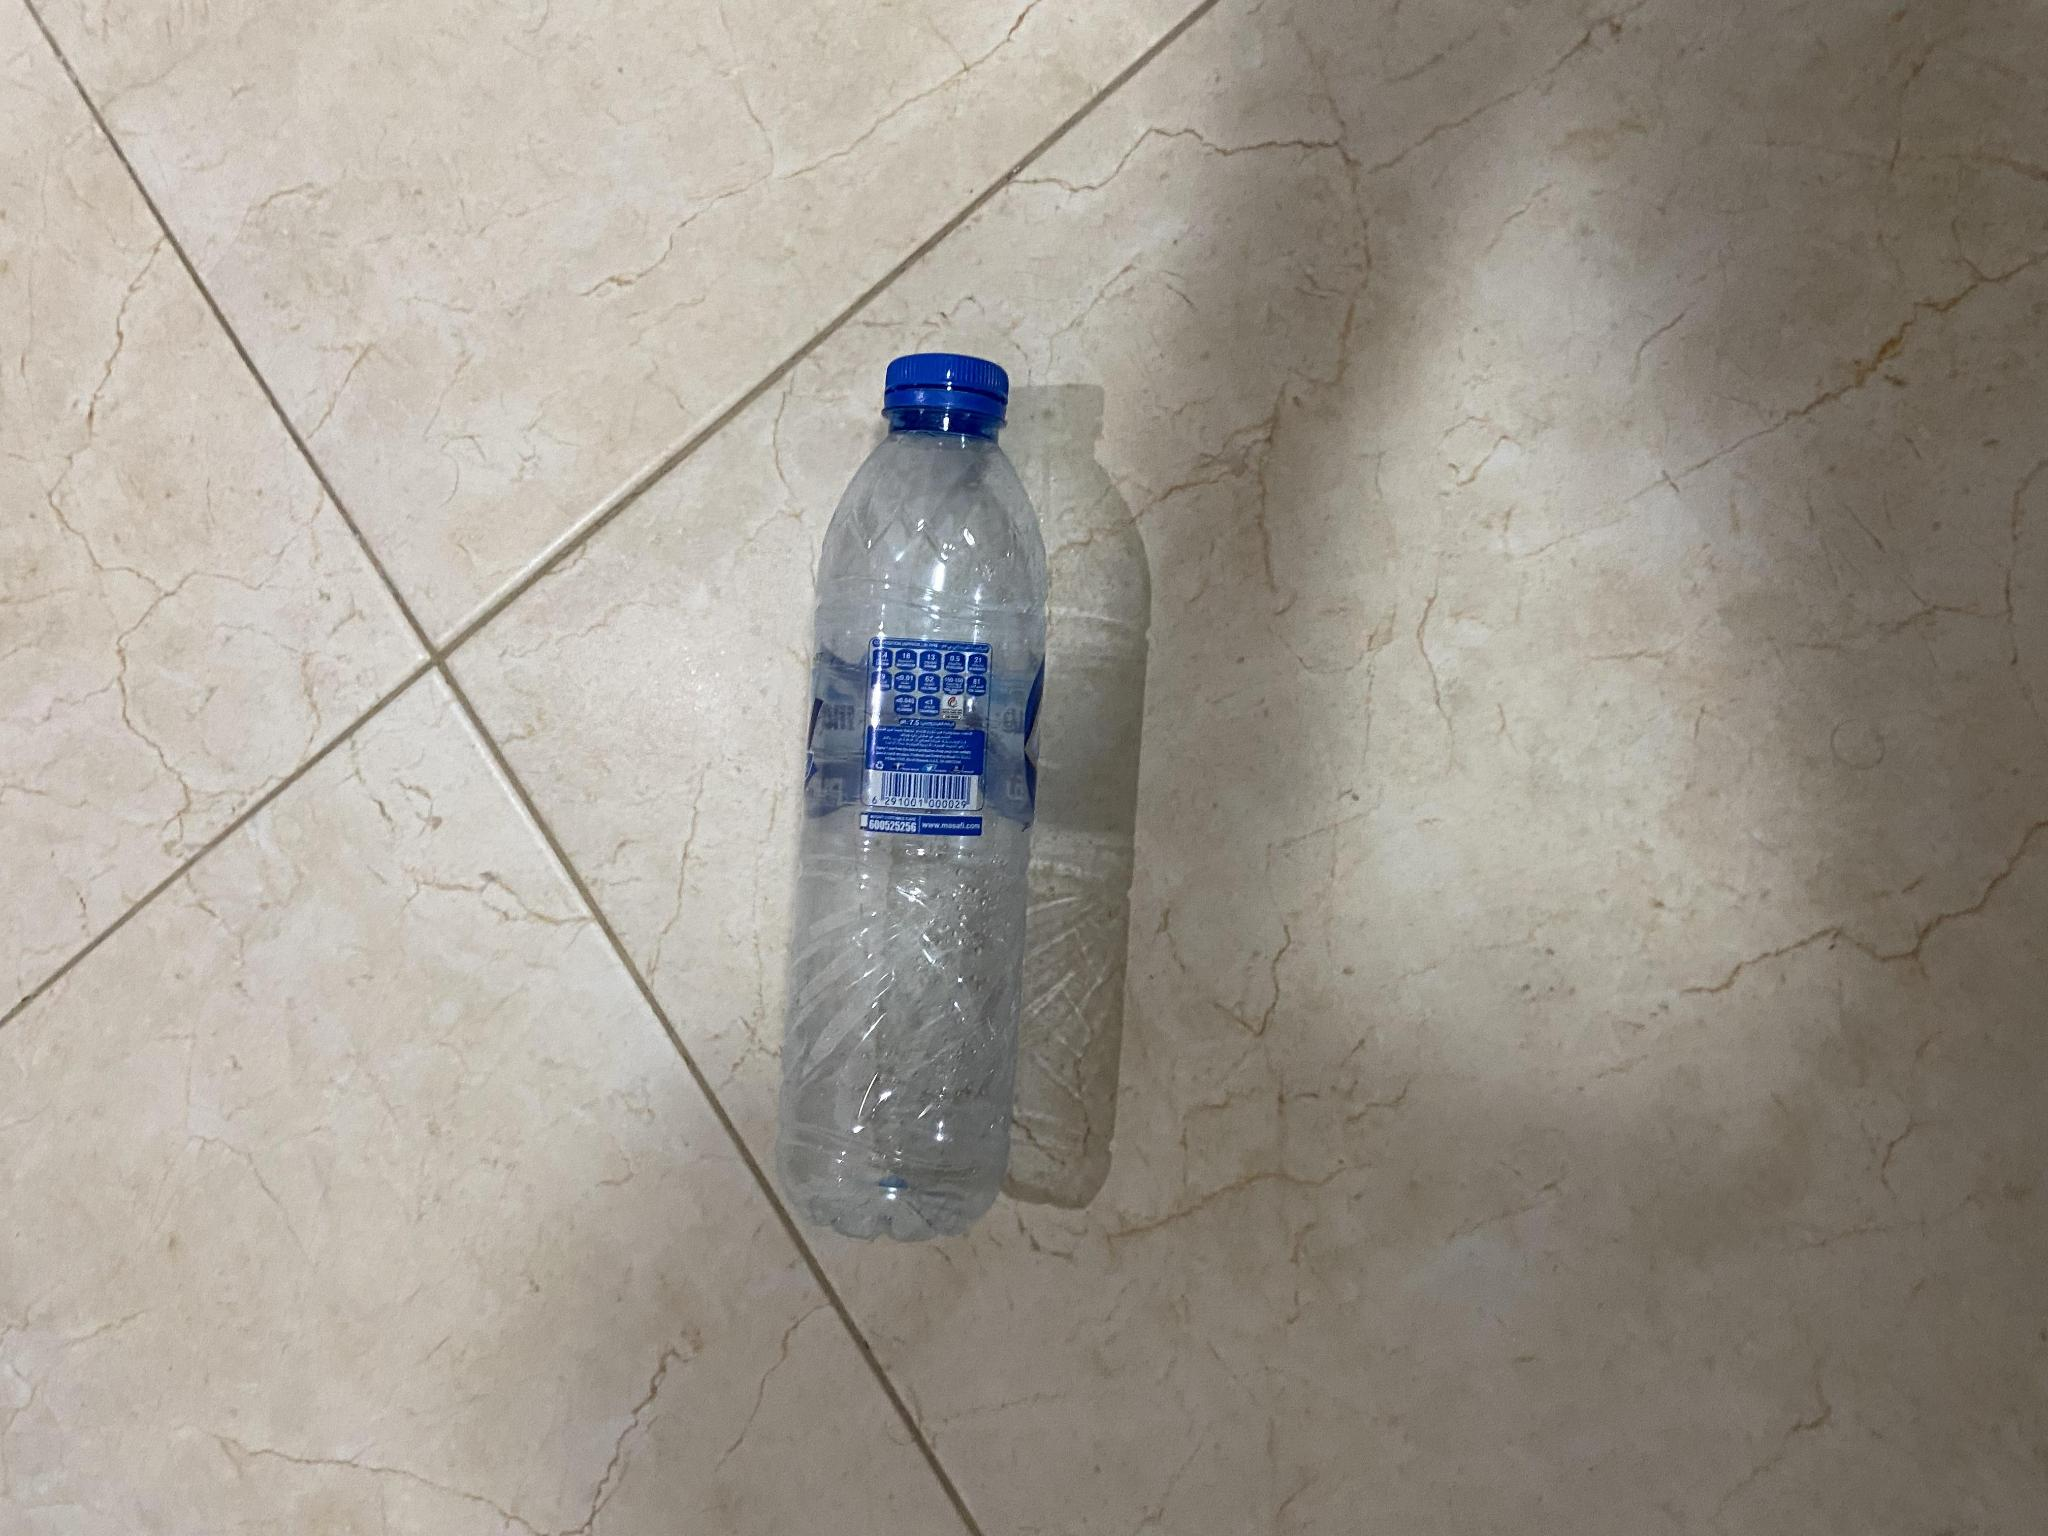bottle: (777, 350, 1059, 1231)
